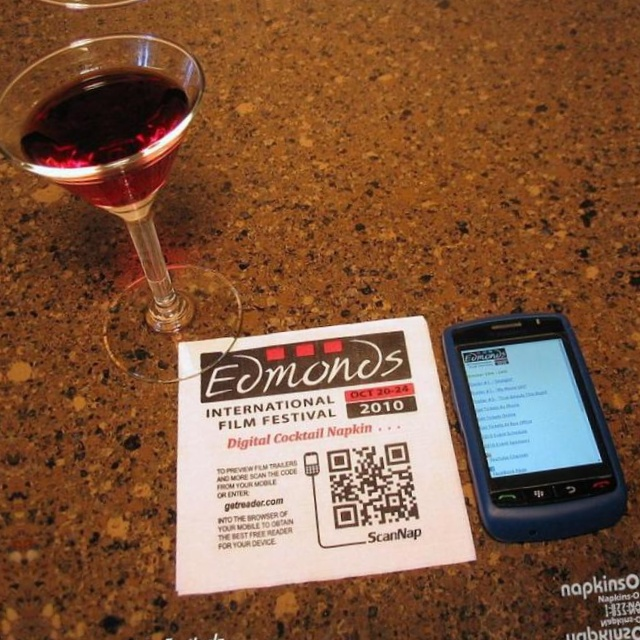qr-code: (326, 442, 419, 528)
